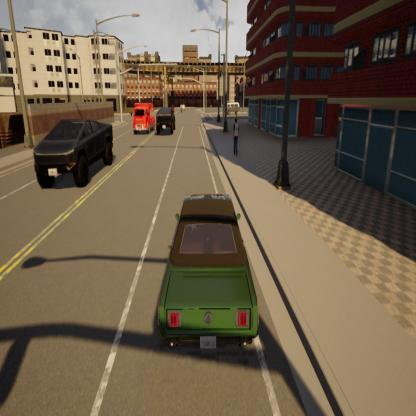Cars: (152, 193, 266, 365), (31, 111, 116, 196), (128, 99, 156, 136), (154, 107, 179, 136), (224, 100, 240, 115), (179, 103, 186, 111)
Pedestrian: (231, 117, 242, 161)
